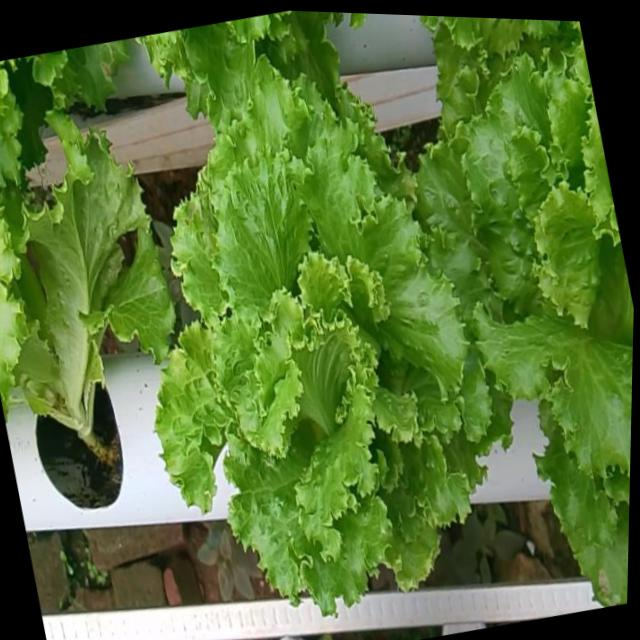Mature: (151, 93, 489, 635), (412, 73, 634, 506)
